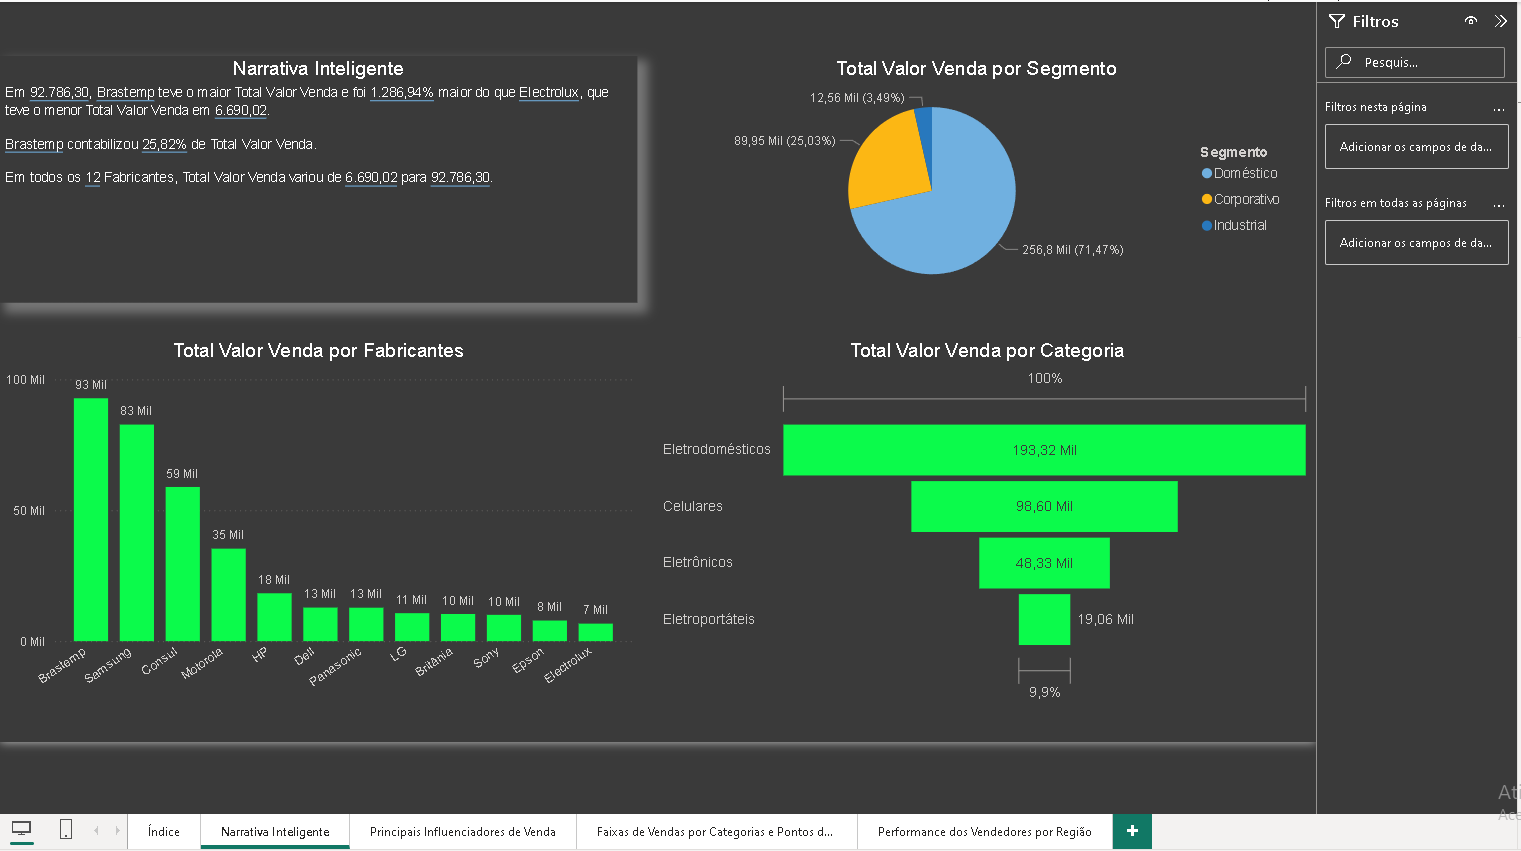

What the dashboard file says about the page in this screenshot:
{"tool":"powerbi","page":{"name":"Narrativa Inteligente","canvas":[1280,720],"ordinal":1},"visuals":[{"type":"pieChart","fields":{"Y":["Sum(Vendas.ValorVenda)"],"Category":["Vendas.Segmento"]},"box":[640,52.5,619.6,240.2],"z":0},{"type":"funnel","fields":{"Y":["Sum(Vendas.ValorVenda)"],"Category":["Vendas.Categoria"]},"box":[640,326.8,640,360.9],"z":1000},{"type":"clusteredColumnChart","fields":{"Y":["Sum(Vendas.ValorVenda)"],"Category":["Vendas.Fabricante"]},"box":[0,326.8,619.6,360.9],"z":2000},{"type":"textbox","title":"Narrativa Inteligente","box":[0,53,620,240],"z":3000}]}

Visuals, with their boxes on the page's 1280x720 design canvas (x1, y1, x2, y2). These are canvas units, not pixel positions in the 1521x851 screenshot, which may show the page scaled, cropped or inside an application window:
pieChart - Sum(Vendas.ValorVenda) x Vendas.Segmento: left=640, top=52, right=1260, bottom=293
funnel - Sum(Vendas.ValorVenda) x Vendas.Categoria: left=640, top=327, right=1280, bottom=688
clusteredColumnChart - Sum(Vendas.ValorVenda) x Vendas.Fabricante: left=0, top=327, right=620, bottom=688
"Narrativa Inteligente" textbox: left=0, top=53, right=620, bottom=293
